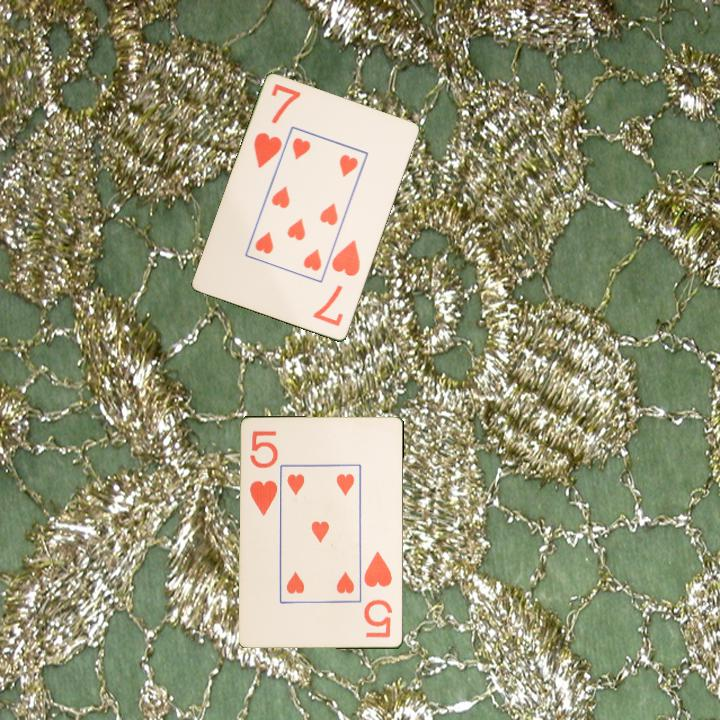5h: (361, 548, 396, 641), (247, 428, 281, 519)
7h: (309, 236, 363, 330), (250, 80, 303, 171)
